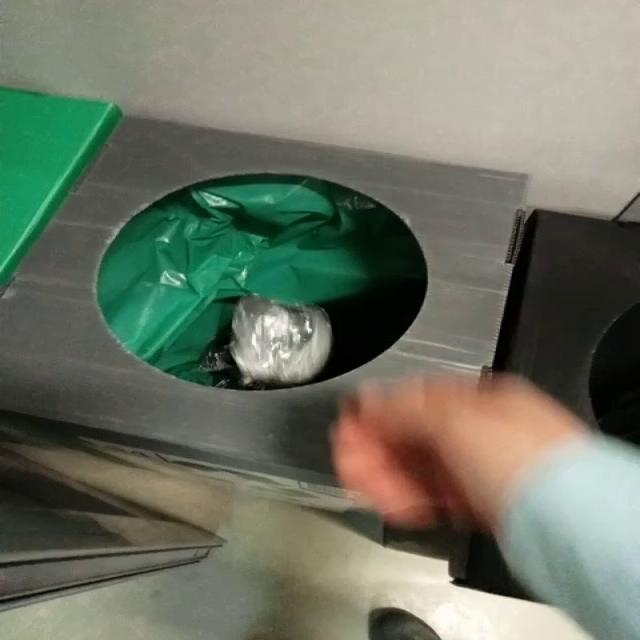metal: (231, 296, 332, 386)
